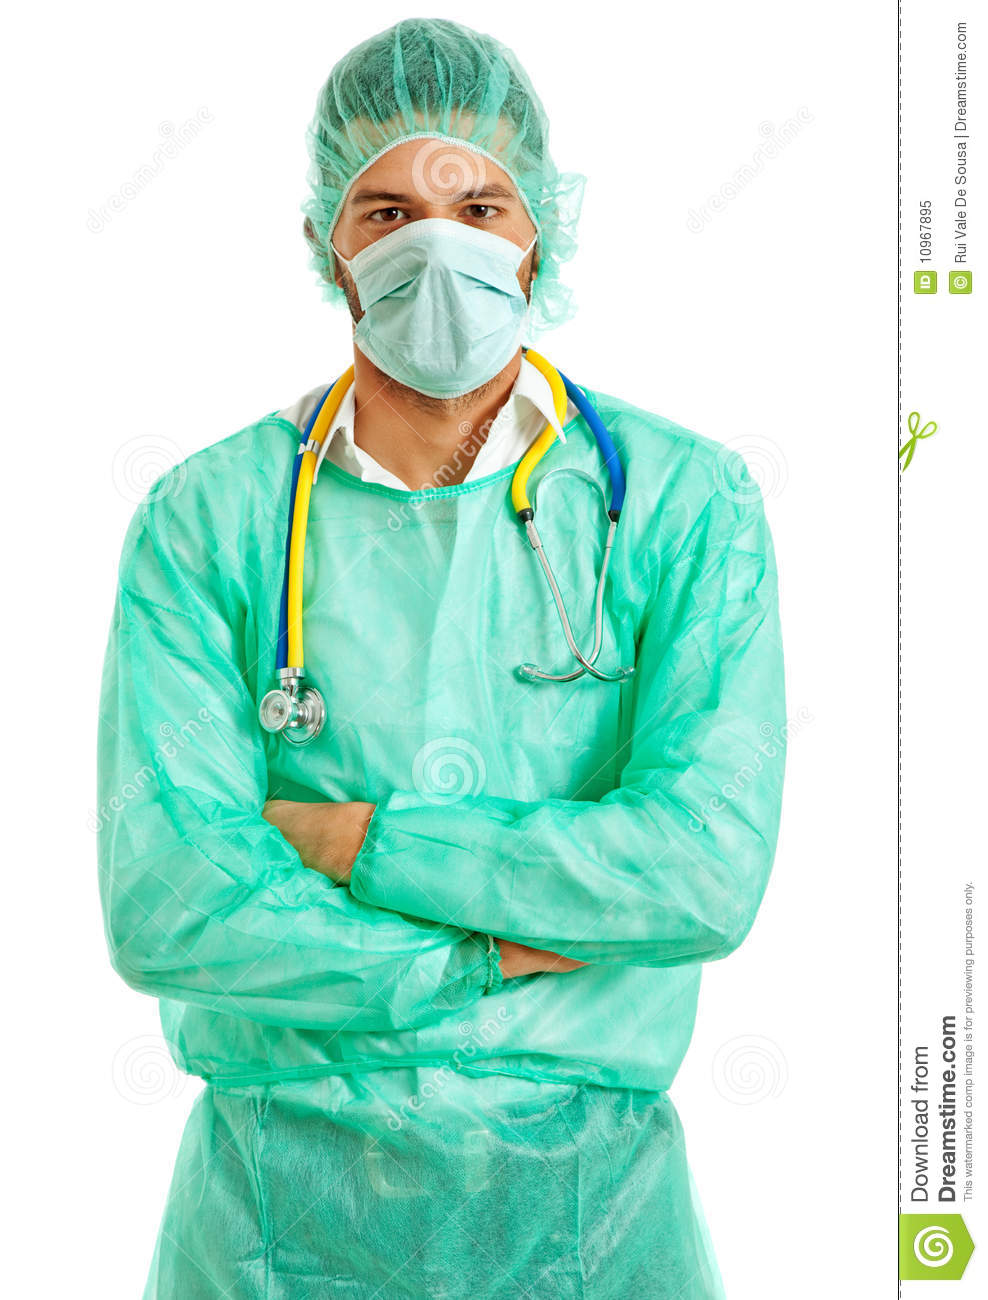mask: (344, 220, 527, 402)
